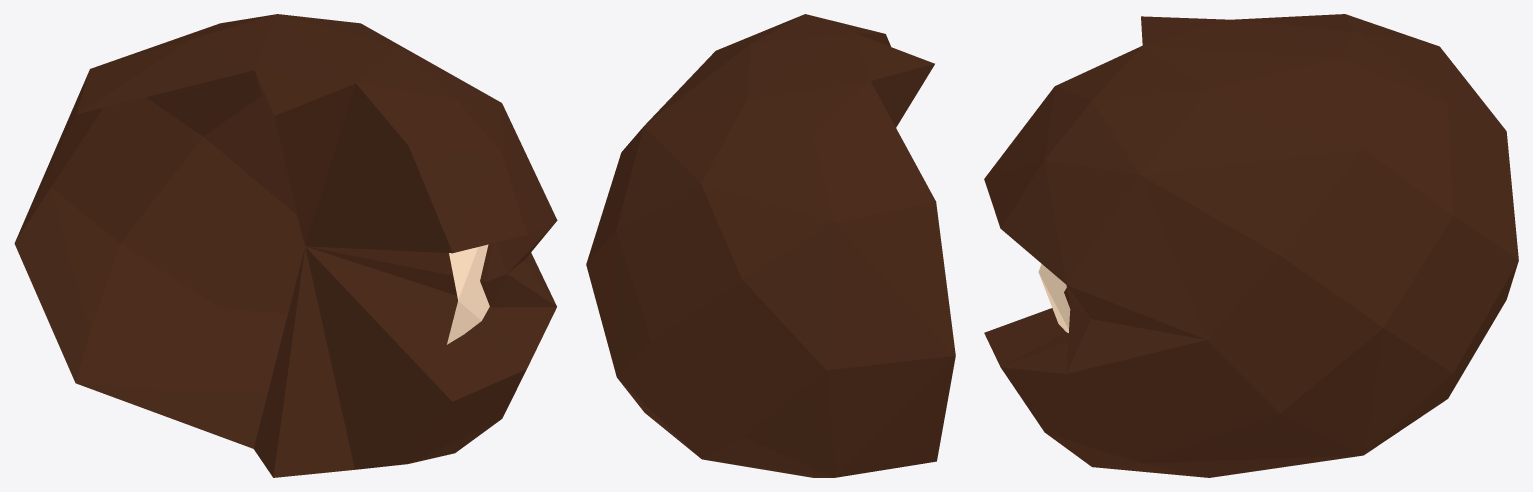
Rendered from hair18.glb.
The picture shows the model from 3 angles, left to right: view 1: azimuth 30°, elevation 25°; view 2: azimuth 150°, elevation 25°; view 3: azimuth 270°, elevation 25°; orthographic projection. The views are drawn at different scales.
Parts seen in each view (by area): view 1: tomodachi-2026-03-13-22-18-12-642, tomodachi-2026-03-13-22-18-12-642.008; view 2: tomodachi-2026-03-13-22-18-12-642; view 3: tomodachi-2026-03-13-22-18-12-642, tomodachi-2026-03-13-22-18-12-642.008.
Boxes of the visible parts, x1=… form: tomodachi-2026-03-13-22-18-12-642: x1=14, y1=14, x2=557, y2=477; tomodachi-2026-03-13-22-18-12-642.008: x1=447, y1=244, x2=489, y2=344; tomodachi-2026-03-13-22-18-12-642: x1=586, y1=14, x2=955, y2=477; tomodachi-2026-03-13-22-18-12-642: x1=984, y1=14, x2=1518, y2=477; tomodachi-2026-03-13-22-18-12-642.008: x1=1038, y1=264, x2=1070, y2=332.
Bounding box in the file's own units: 1.17 × 1.06 × 1.29.
2 materials, 2 textured.
